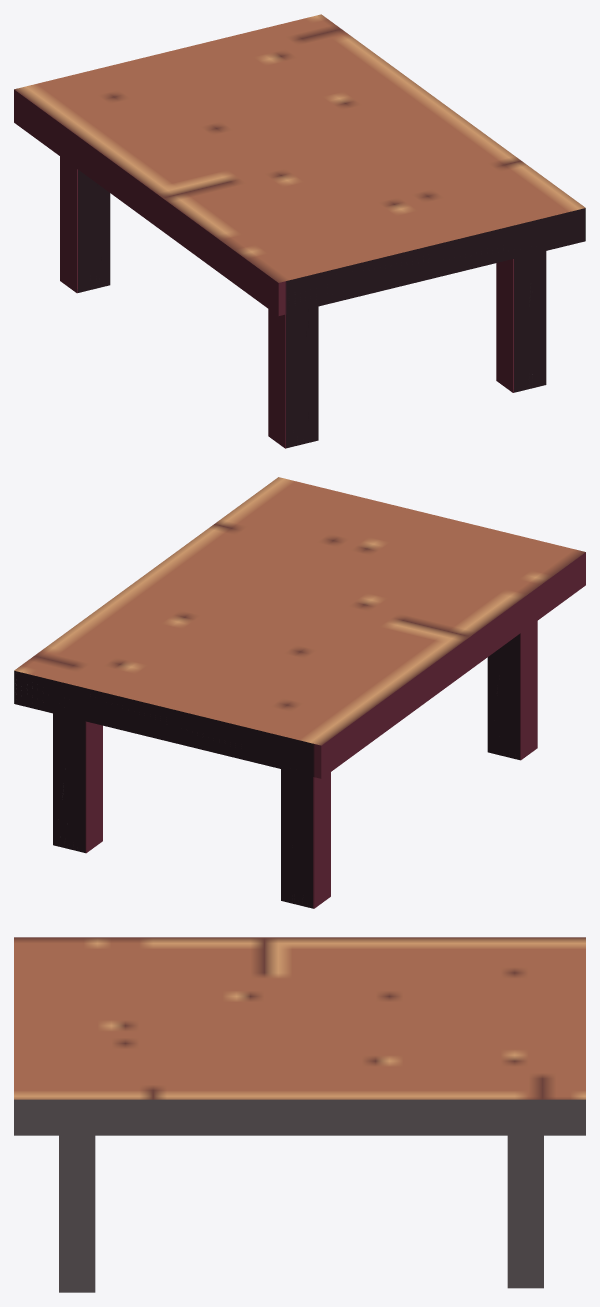
The model's file is Mesinha.fbx.
3 renders of one model, top to bottom at view 1: azimuth 30°, elevation 25°; view 2: azimuth 150°, elevation 25°; view 3: azimuth 270°, elevation 25°, orthographic. The views are drawn at different scales.
Visible parts, largest first — view 1: Mesinha; view 2: Mesinha; view 3: Mesinha.
Part boxes in pixels (box(x1,y1,x2,y2)): Mesinha: box(14, 14, 585, 448); Mesinha: box(14, 477, 585, 908); Mesinha: box(14, 937, 585, 1292).
Bounding box in the file's own units: 99.61 × 148 × 58.08.
